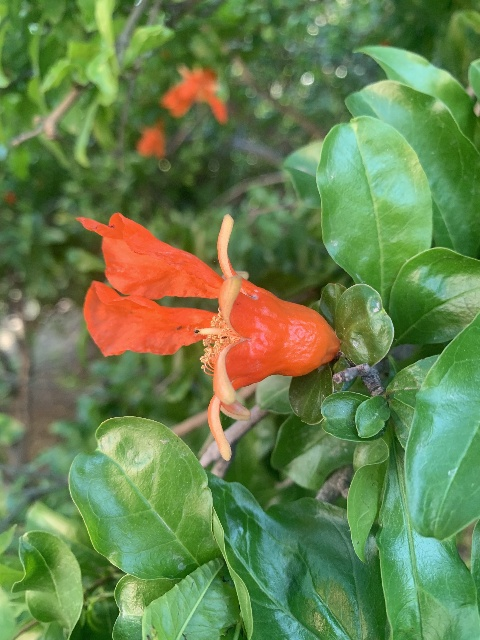flower: (76, 209, 340, 458), (160, 65, 227, 124), (136, 127, 165, 160)
